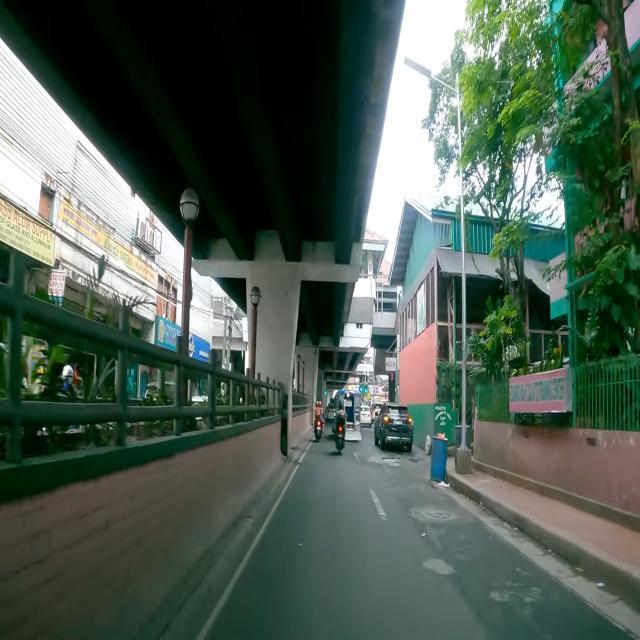car: (374, 403, 412, 452), (360, 404, 372, 428)
jeepney: (335, 389, 361, 442)
motorcycle: (332, 399, 347, 454), (312, 401, 324, 442)
